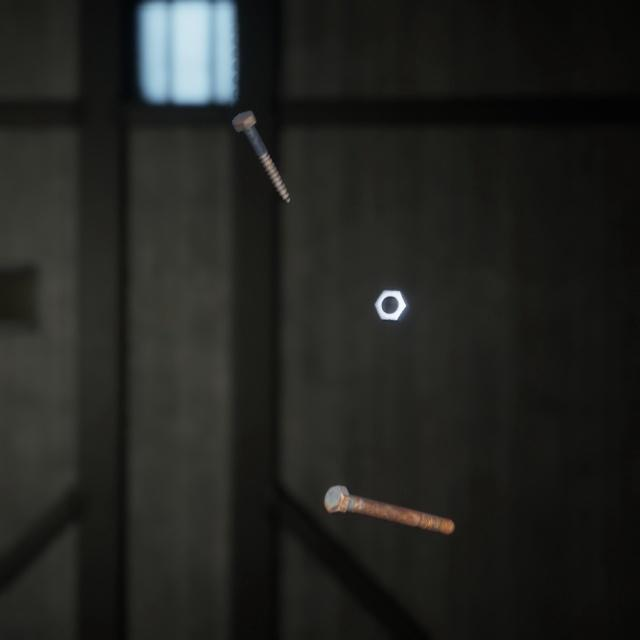bolt: (319, 459, 459, 518), (228, 92, 294, 193)
nut: (369, 268, 414, 309)
